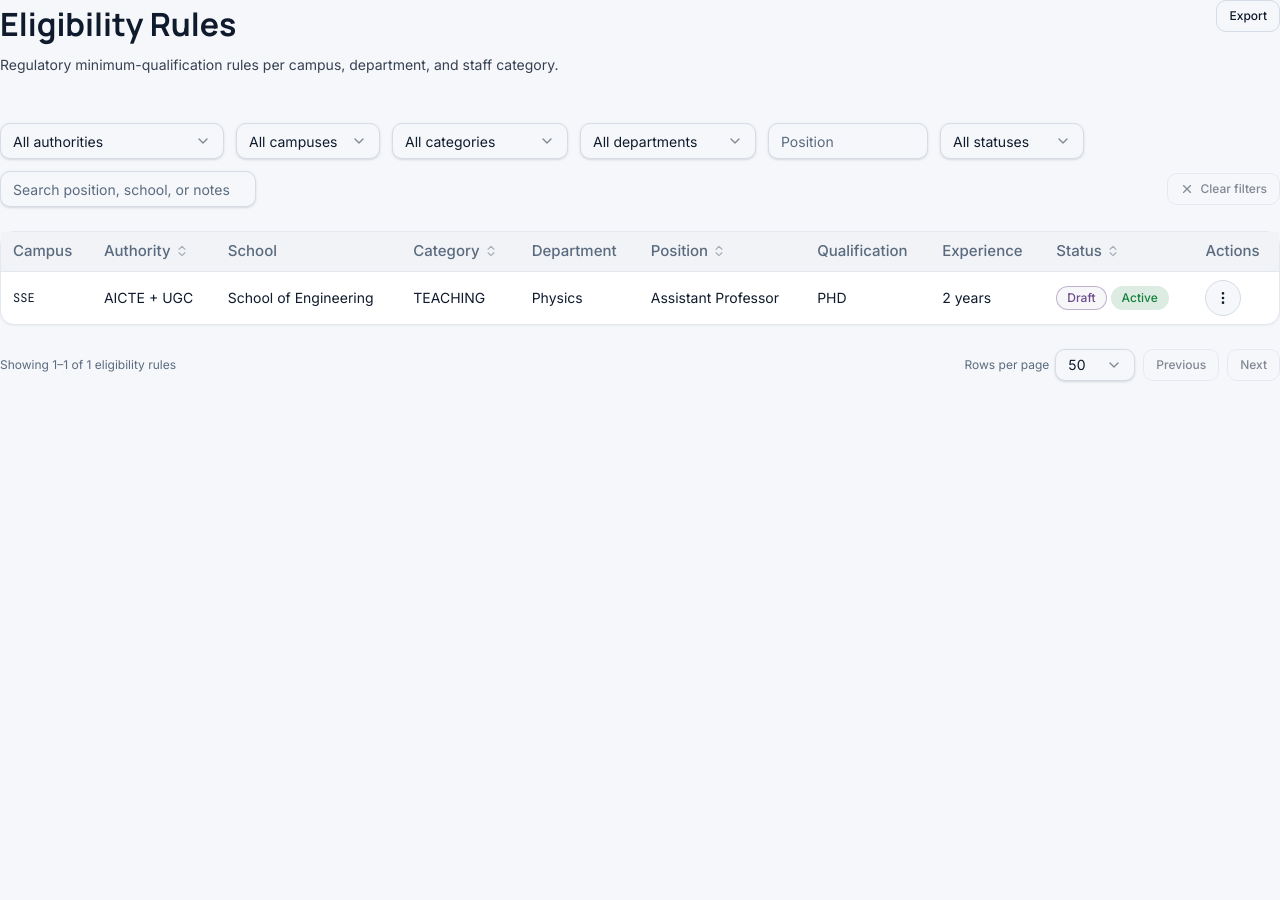
EligibilityRulesPage › lets a non-admin staff role view rules read-only, with only View in the row-actions menu
The width and height of the screenshot is (1280, 900).
Expected: the text "Assistant Professor" is shown, [639,271,805,324]
Click the button named "More actions".
click(1223, 298)  # box [1205,280,1241,316]
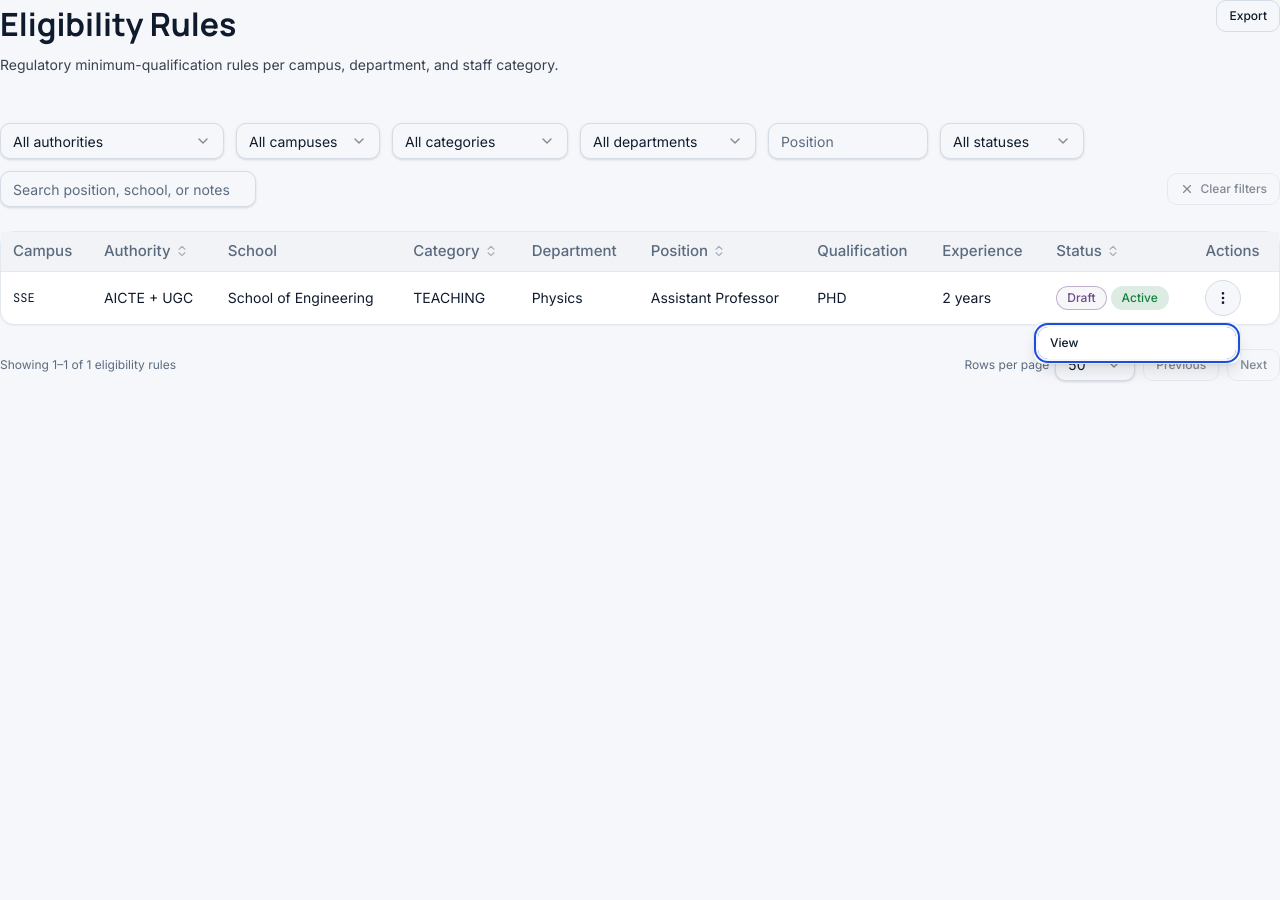
Expected: the button "View" is shown, [1038,327,1236,359]
